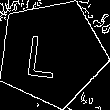L_N: (33, 26, 70, 79)
